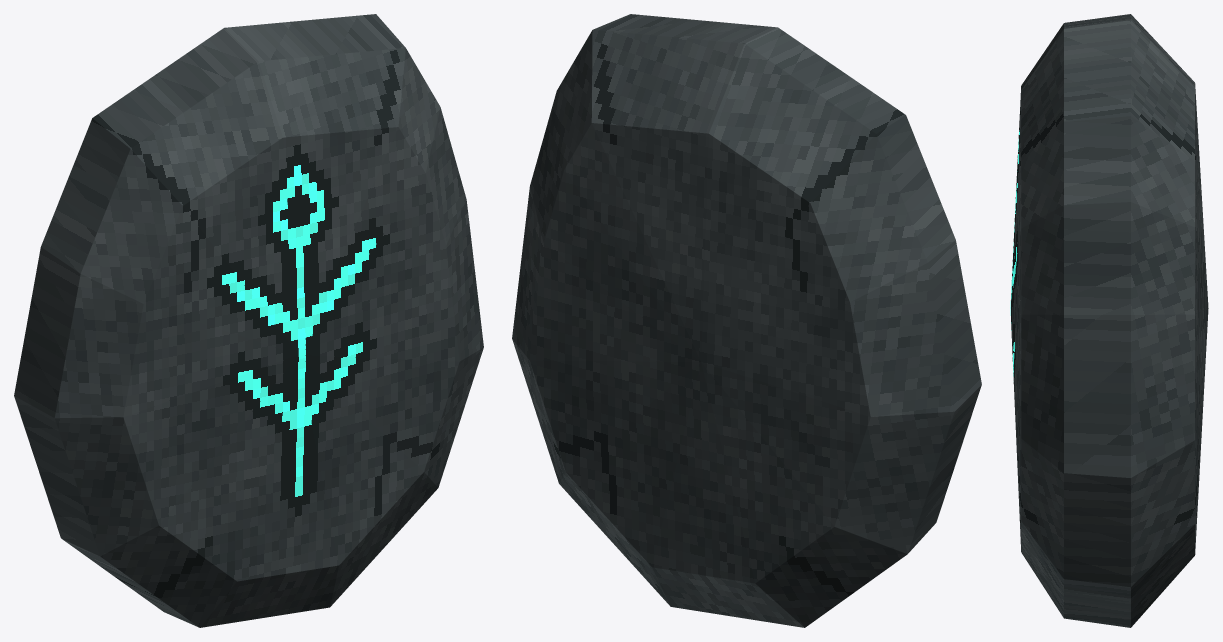
The model's file is growth-stone.glb.
The picture shows the model from 3 angles, left to right: view 1: azimuth 30°, elevation 25°; view 2: azimuth 150°, elevation 25°; view 3: azimuth 270°, elevation 25°; orthographic projection.
Visible parts, largest first — view 1: ECF_GrowthLesser_Prototype; view 2: ECF_GrowthLesser_Prototype; view 3: ECF_GrowthLesser_Prototype.
Part boxes in pixels (<box>): ECF_GrowthLesser_Prototype: <box>14,14,483,627</box>; ECF_GrowthLesser_Prototype: <box>512,14,981,627</box>; ECF_GrowthLesser_Prototype: <box>1010,14,1208,627</box>.
Bounding box in the file's own units: 0.1881 × 0.236 × 0.074.
Materials: 1 (1 with a texture image).
